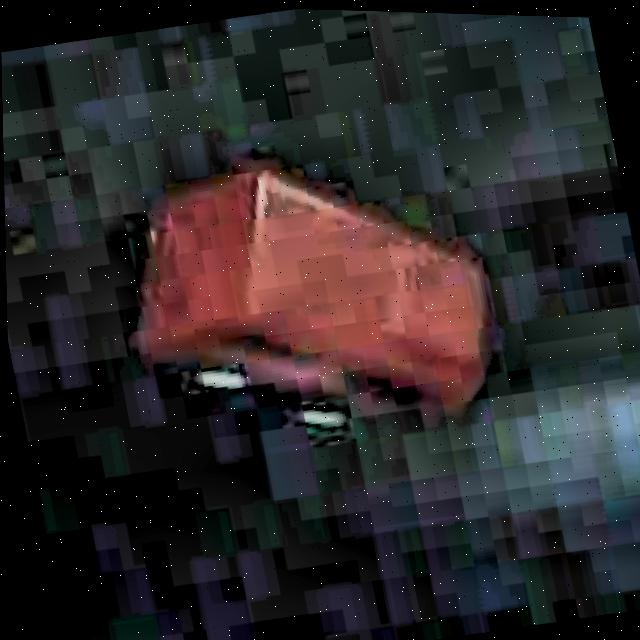bus: (92, 114, 521, 478)
